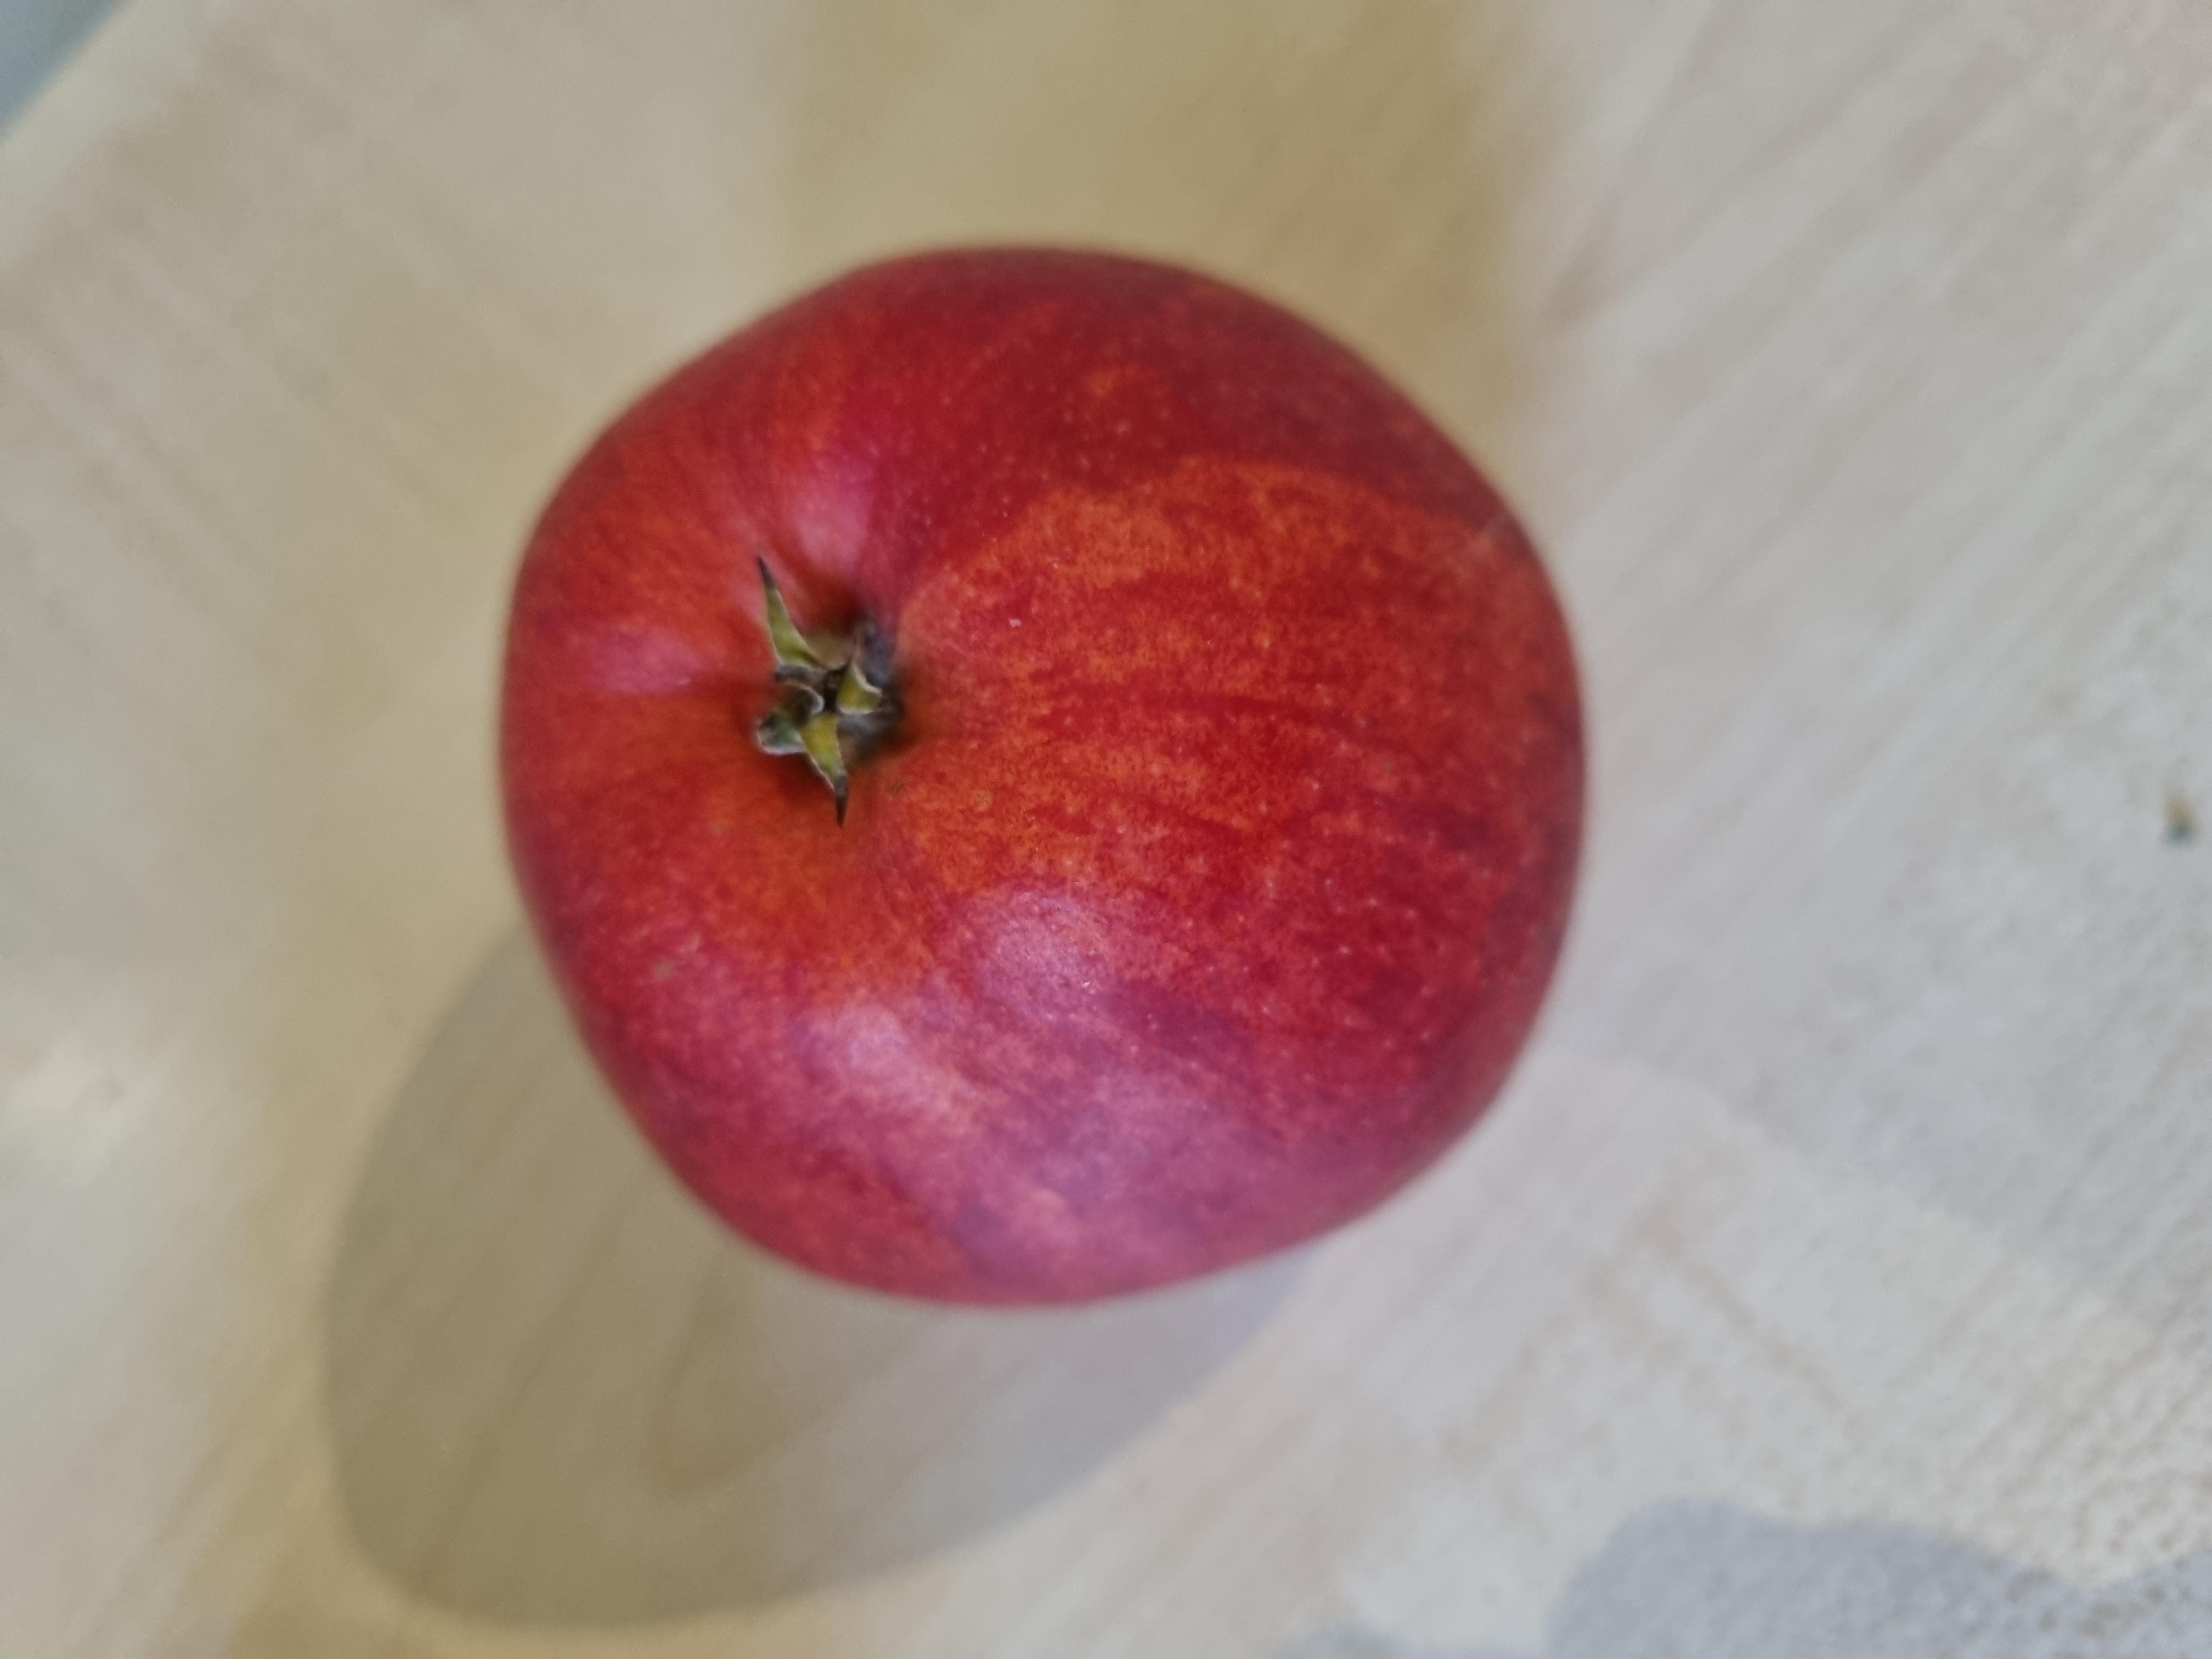Apple: (470, 213, 1627, 1338)
